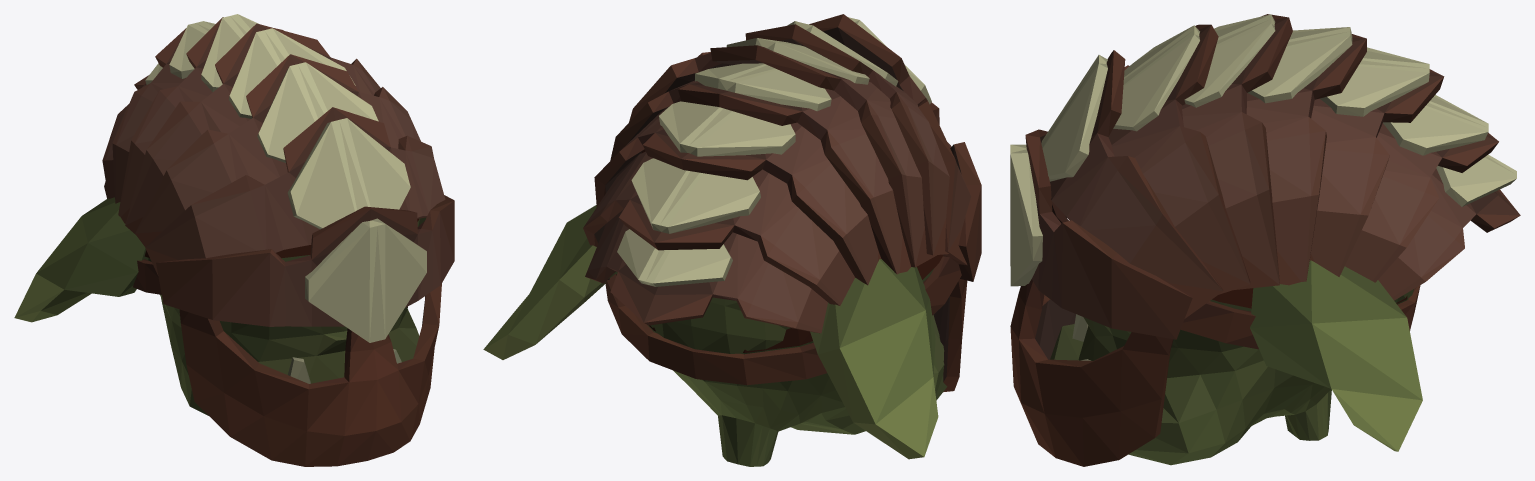
The model's file is Goblin_Green_Head_Helm_4.fbx.
3 renders of one model, left to right at view 1: azimuth 30°, elevation 25°; view 2: azimuth 150°, elevation 25°; view 3: azimuth 270°, elevation 25°, orthographic. The views are drawn at different scales.
Visible parts, largest first — view 1: Goblin_Green_Head_Helm_4; view 2: Goblin_Green_Head_Helm_4; view 3: Goblin_Green_Head_Helm_4.
Part boxes in pixels (x1,y1,x2,y2): Goblin_Green_Head_Helm_4: [14, 14, 454, 466]; Goblin_Green_Head_Helm_4: [483, 14, 981, 466]; Goblin_Green_Head_Helm_4: [1010, 14, 1520, 466].
Size of the model in its own units: 1.34 by 1.22 by 1.32.
